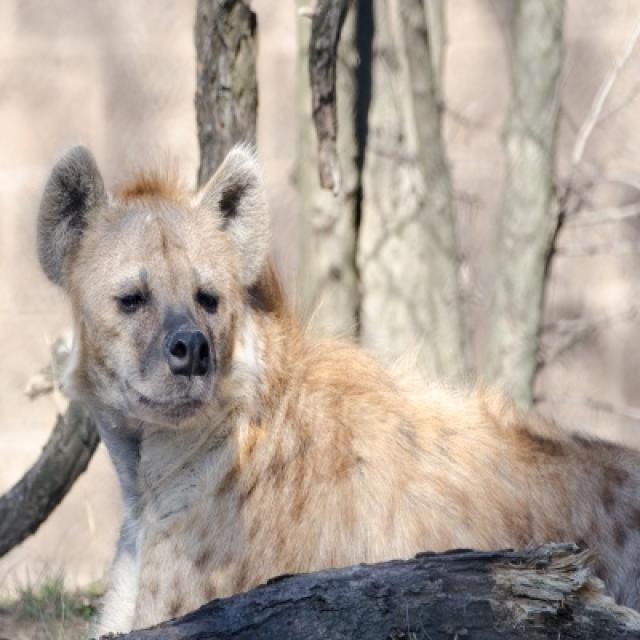hyena: (32, 146, 638, 638)
